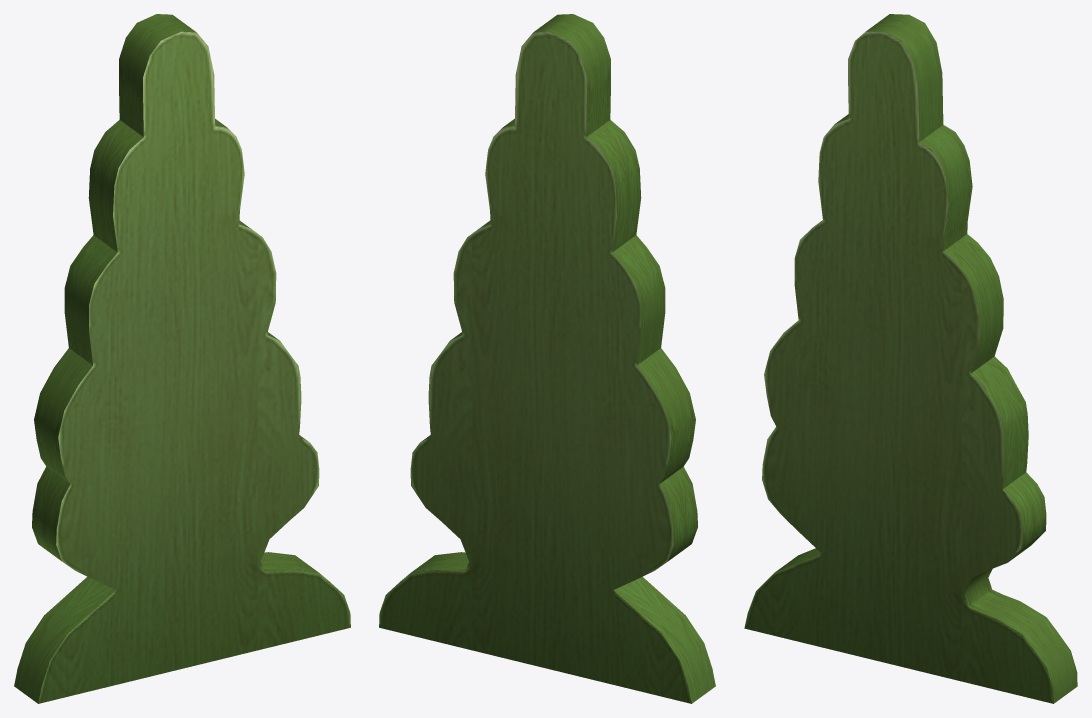
Rendered from Doll_OB_ToyTrainDec_004.FBX.
3 renders of one model, left to right at view 1: azimuth 30°, elevation 25°; view 2: azimuth 150°, elevation 25°; view 3: azimuth 330°, elevation 25°, orthographic.
Visible parts, largest first — view 1: Doll_OB_ToyTrainDec_004; view 2: Doll_OB_ToyTrainDec_004; view 3: Doll_OB_ToyTrainDec_004.
Part boxes in pixels (bbox=[...]): Doll_OB_ToyTrainDec_004: bbox=[14, 14, 350, 703]; Doll_OB_ToyTrainDec_004: bbox=[379, 14, 715, 703]; Doll_OB_ToyTrainDec_004: bbox=[744, 14, 1077, 703].
Size of the model in its own units: 9.57 by 18.64 by 1.28.
